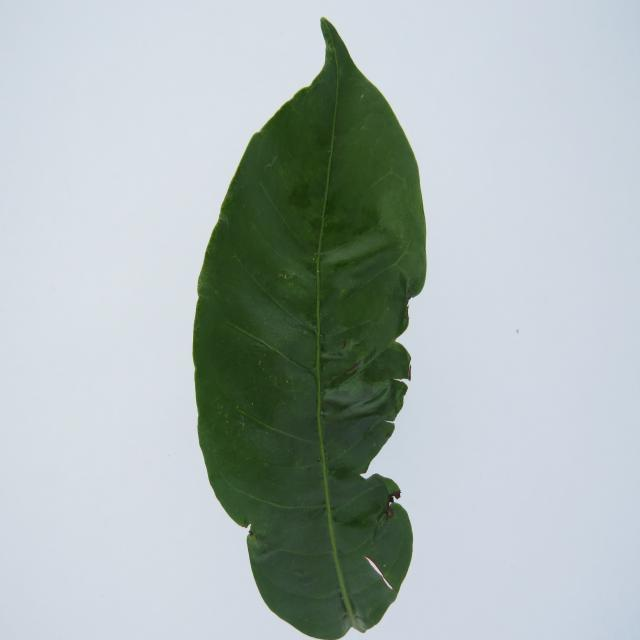DeficienciaNutricional-Calcio: (194, 20, 426, 638)
